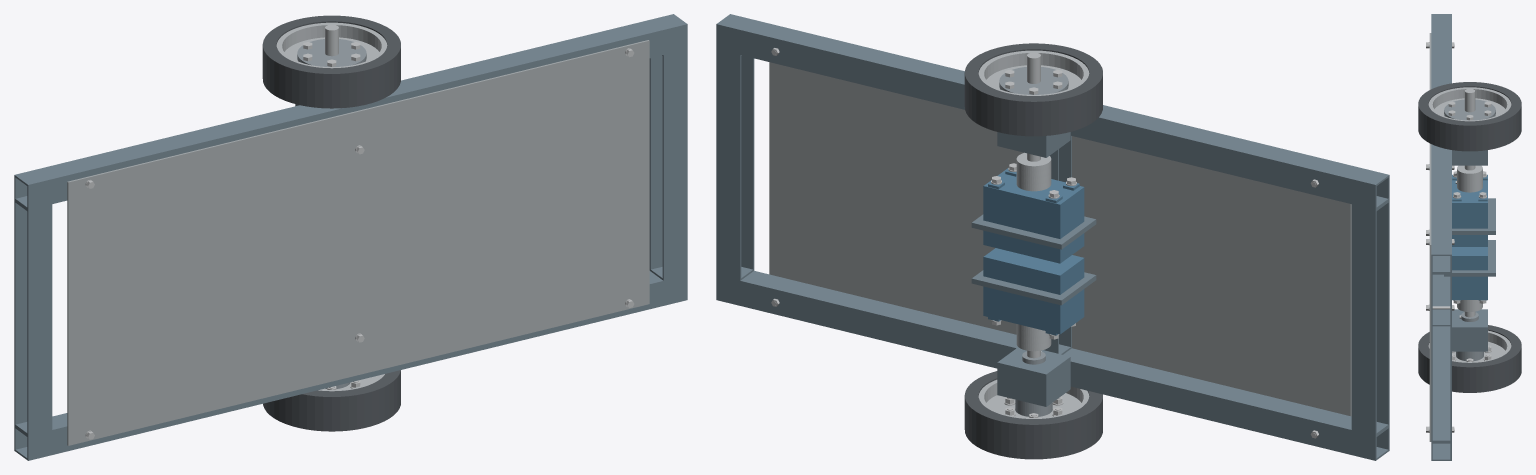
File: A03_roues_sur_chassis.glb
The picture shows the model from 3 angles, left to right: view 1: azimuth 30°, elevation 25°; view 2: azimuth 150°, elevation 25°; view 3: azimuth 270°, elevation 25°; orthographic projection. The views are drawn at different scales.
Parts seen in each view (by area): view 1: C06_plancher, C02_longeron_droit, C03_traverse_avant, C05_traverse_arriere, D_R01_pneu, C01_longeron_gauche, G_R01_pneu, D_R02_jante, D_R03_moyeu; view 2: C06_plancher, C01_longeron_gauche, C02_longeron_droit, C03_traverse_avant, C05_traverse_arriere, D_R01_pneu, G_R01_pneu, D_M01_motor_reducteur, G_M01_motor_reducteur, G_R09_support_paliers, D_R02_jante, G_R02_jante (+7 smaller); view 3: C02_longeron_droit, D_R01_pneu, C01_longeron_gauche, G_R01_pneu, D_M01_motor_reducteur, G_M01_motor_reducteur, G_R09_support_paliers, D_R02_jante, C06_plancher, C05_traverse_arriere, D_R03_moyeu, D_M03_accouplement (+8 smaller).
Boxes of the visible parts, x1,y1,x2,y2 form: C06_plancher: (67,40,649,445); C02_longeron_droit: (14,14,687,209); C03_traverse_avant: (14,200,52,435); C05_traverse_arriere: (649,49,687,280); D_R01_pneu: (262,15,400,108); C01_longeron_gauche: (14,271,687,460); G_R01_pneu: (263,370,400,431); D_R02_jante: (276,22,387,68); D_R03_moyeu: (297,39,366,66); C06_plancher: (769,62,1351,416); C01_longeron_gauche: (716,270,1389,460); C02_longeron_droit: (716,14,1389,209); C03_traverse_avant: (1351,200,1389,435); C05_traverse_arriere: (716,49,754,280); D_R01_pneu: (964,43,1102,136); G_R01_pneu: (964,371,1102,459); D_M01_motor_reducteur: (983,168,1084,263); G_M01_motor_reducteur: (983,248,1084,335); G_R09_support_paliers: (997,347,1070,406); D_R02_jante: (978,50,1089,95); G_R02_jante: (978,379,1089,418); C02_longeron_droit: (1431,14,1451,273); D_R01_pneu: (1418,82,1521,151); C01_longeron_gauche: (1431,274,1451,460); G_R01_pneu: (1418,325,1521,392); D_M01_motor_reducteur: (1452,174,1487,246); G_M01_motor_reducteur: (1452,247,1487,300); G_R09_support_paliers: (1452,309,1487,351); D_R02_jante: (1428,87,1511,121); C06_plancher: (1429,33,1431,441); C05_traverse_arriere: (1431,273,1451,442); D_R03_moyeu: (1444,99,1495,120); D_M03_accouplement: (1457,165,1482,192).
Bounding box in the file's own units: 1100 × 625 × 200.
